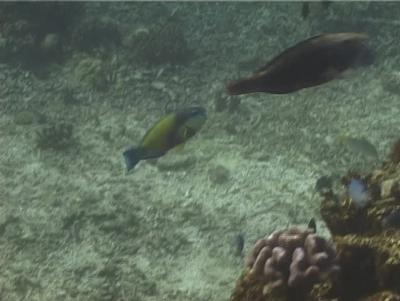Scaridae -Parrotfishes-: (120, 99, 208, 173)
